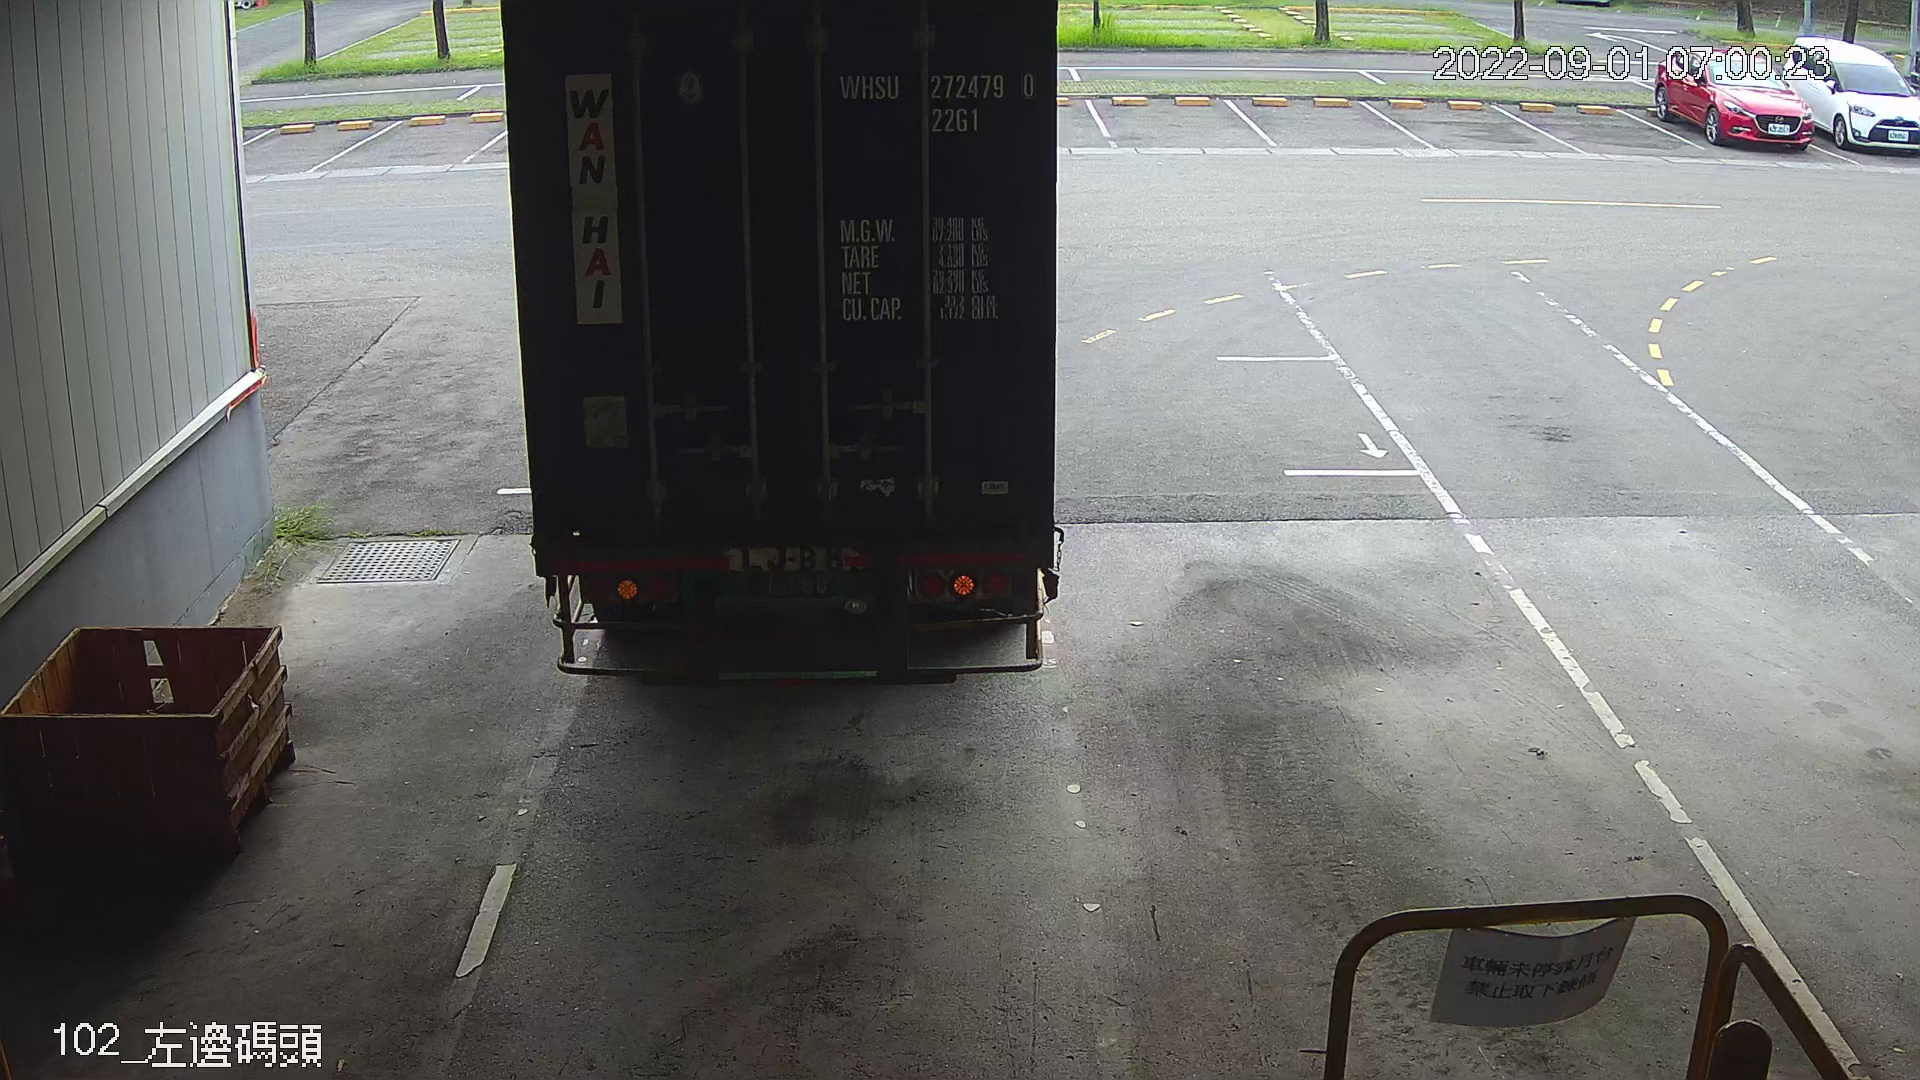container: (829, 58, 1050, 144)
